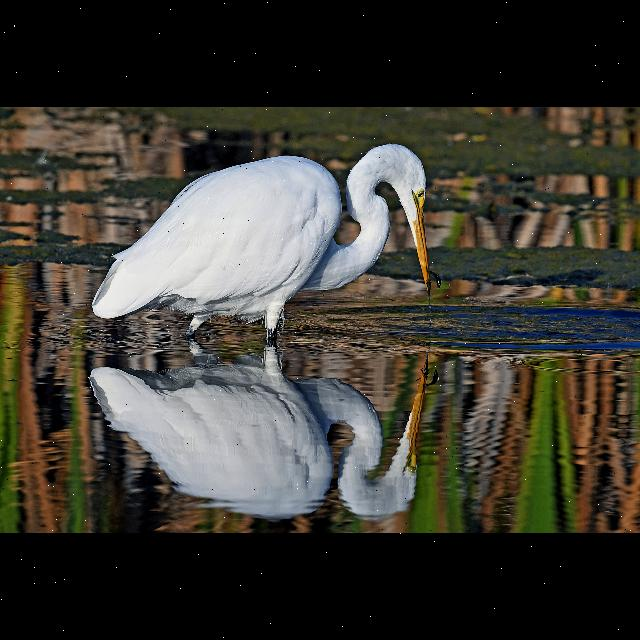egret: (82, 138, 454, 342)
